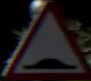Speed Breaker ahead: (8, 8, 79, 71)
